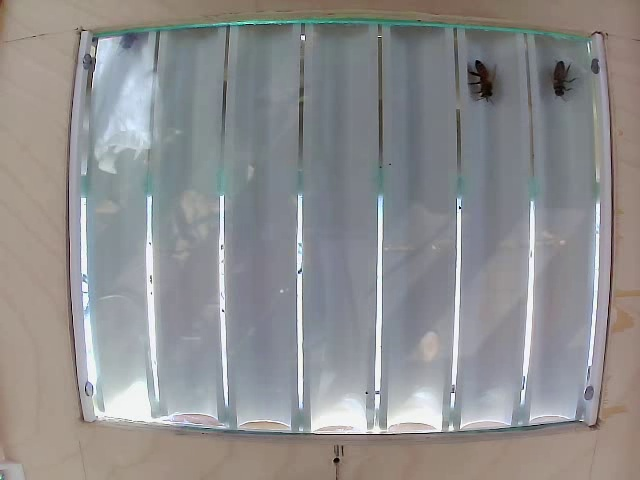bee: (463, 52, 504, 123), (540, 58, 577, 111)
